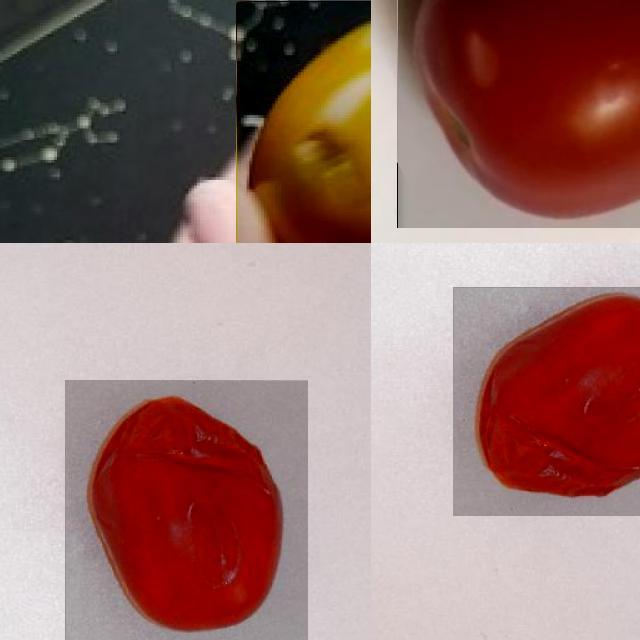Fresh Tomato: (396, 0, 640, 228)
Rotten Tomato: (65, 379, 307, 640), (453, 286, 640, 516), (236, 1, 371, 243)
